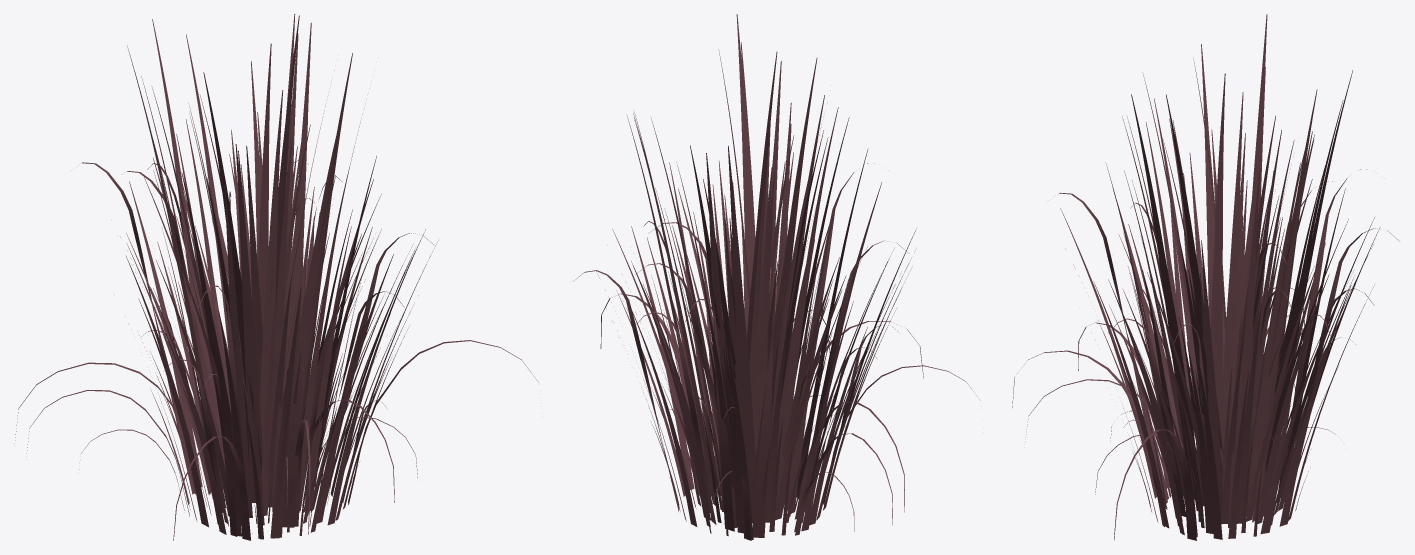
File: redGrass1.gltf
3 renders of one model, left to right at view 1: azimuth 30°, elevation 25°; view 2: azimuth 150°, elevation 25°; view 3: azimuth 270°, elevation 25°, orthographic. The views are drawn at different scales.
Parts seen in each view (by area): view 1: Bloodgrass Export; view 2: Bloodgrass Export; view 3: Bloodgrass Export.
Part boxes in pixels (bbox=[...]): Bloodgrass Export: bbox=[15, 14, 538, 540]; Bloodgrass Export: bbox=[573, 14, 980, 540]; Bloodgrass Export: bbox=[1012, 14, 1399, 540].
Bounding box in the file's own units: 0.3181 × 0.3443 × 0.2682.
